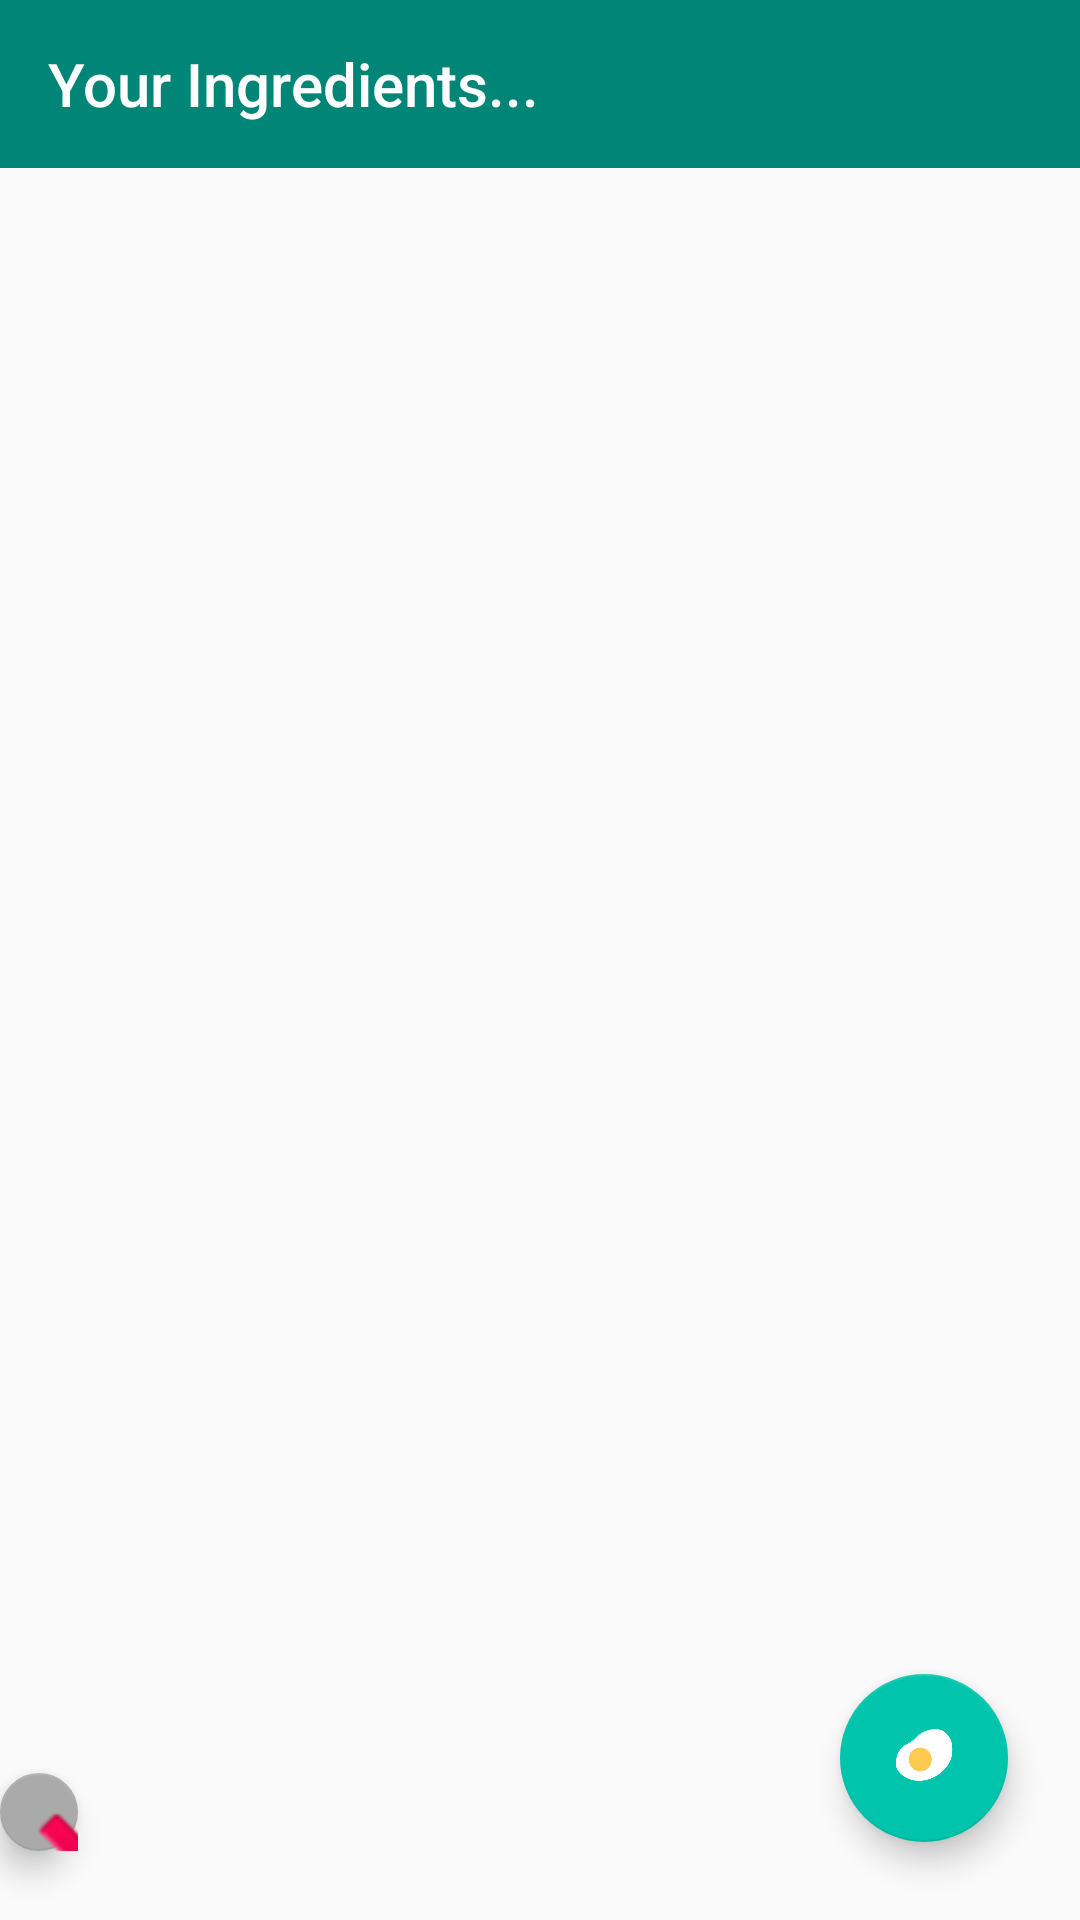

Where to tap for icons on this 1080 x 1920 app screen, as point (x, y):
tamagoicon: point (924, 1758)
